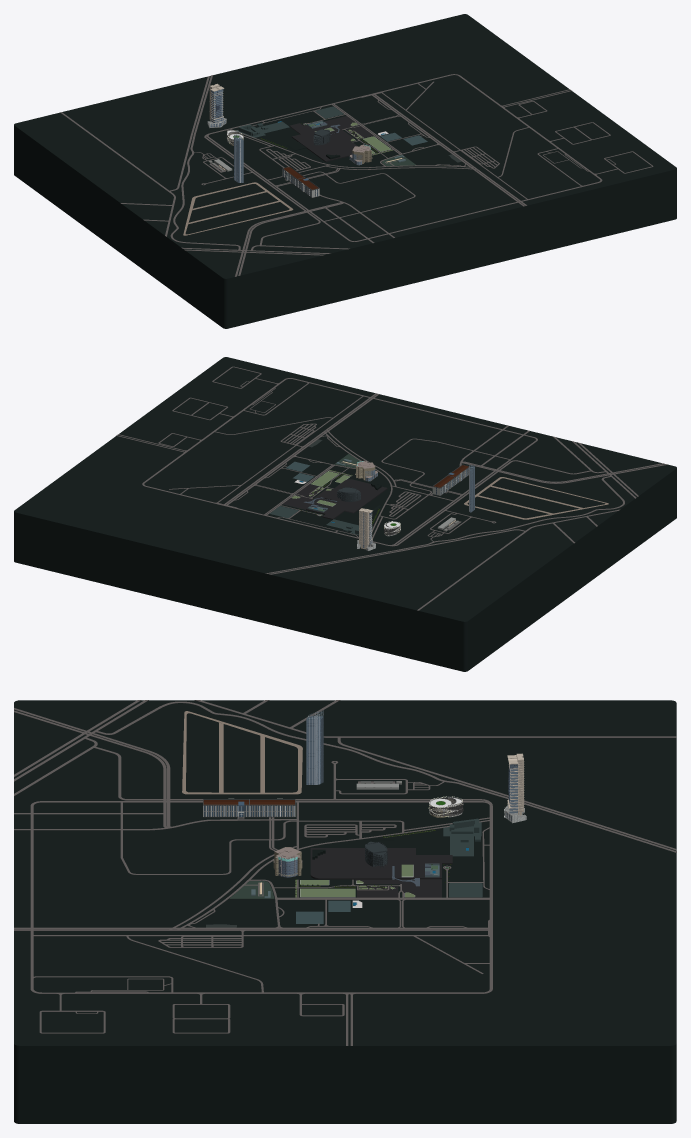
The model's file is diorama06112024-transformed.glb.
3 renders of one model, top to bottom at view 1: azimuth 30°, elevation 25°; view 2: azimuth 150°, elevation 25°; view 3: azimuth 270°, elevation 25°, orthographic. The views are drawn at different scales.
Visible parts, largest first — view 1: dio; view 2: dio; view 3: dio, building04, building_omantel.
Part boxes in pixels (x1=…): dio: x1=14, y1=14, x2=676, y2=328; dio: x1=14, y1=357, x2=676, y2=671; dio: x1=14, y1=700, x2=676, y2=1123; building04: x1=203, y1=799, x2=295, y2=819; building_omantel: x1=429, y1=796, x2=463, y2=817.
Size of the model in its own units: 2867 by 582 by 2323.
Materials: 19 (9 with a texture image).
